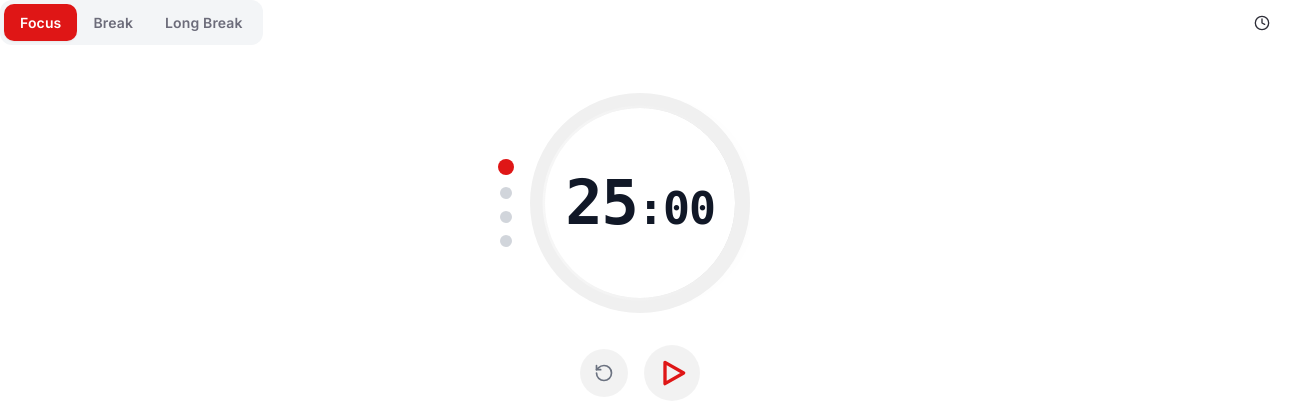
Timer Functionality › should start and pause timer correctly
Click the button with test id "play-button" at (672,373), box [644,345,700,401]
Wait 5000 ms
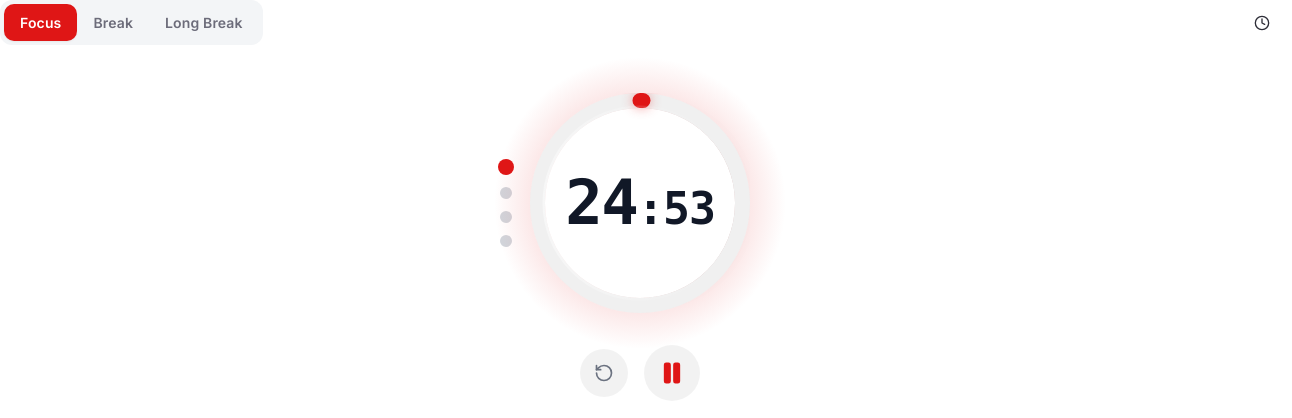
Now the button with test id "pause-button" is shown
Click the button with test id "pause-button" at (672,373), box [644,345,700,401]
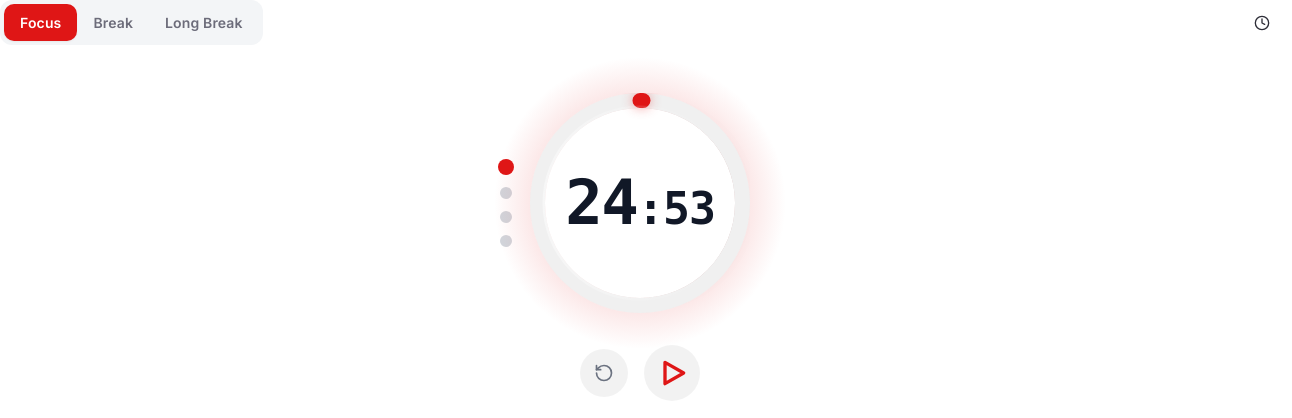
Now the button with test id "play-button" is shown, box [644,345,700,401]
